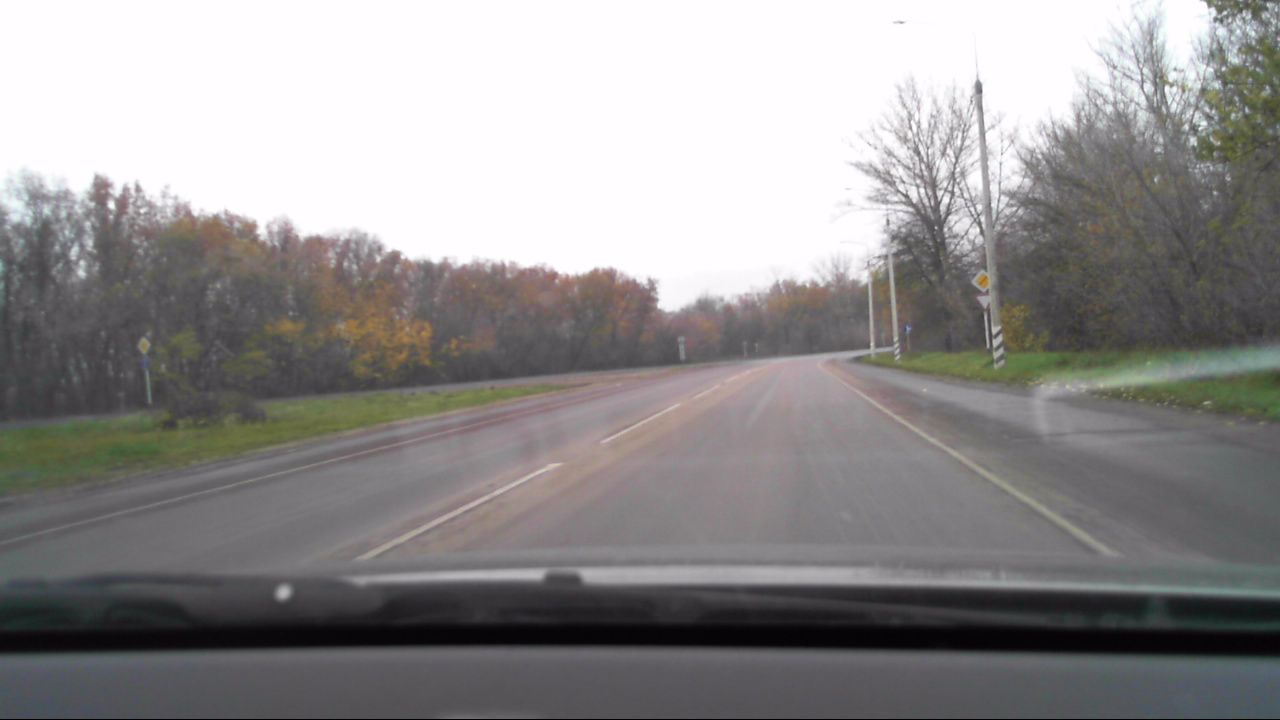main road: (970, 269, 992, 292)
